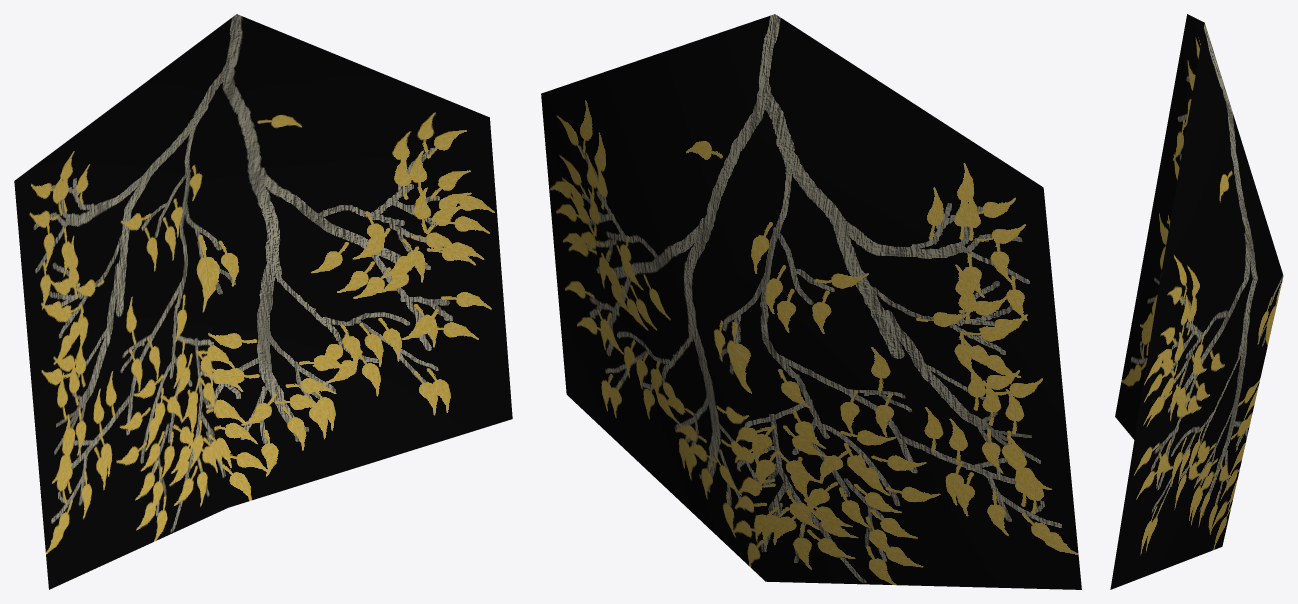
The model's file is LeafMesh6.fbx.
3 renders of one model, left to right at view 1: azimuth 30°, elevation 25°; view 2: azimuth 150°, elevation 25°; view 3: azimuth 270°, elevation 25°, orthographic. The views are drawn at different scales.
Parts seen in each view (by area): view 1: LeafMesh1; view 2: LeafMesh1; view 3: LeafMesh1.
Boxes of the visible parts, x1,y1,x2,y2 form: LeafMesh1: (14,14,512,589); LeafMesh1: (541,14,1081,589); LeafMesh1: (1110,14,1283,589).
Bounding box in the file's own units: 2 × 2.07 × 0.6195.
